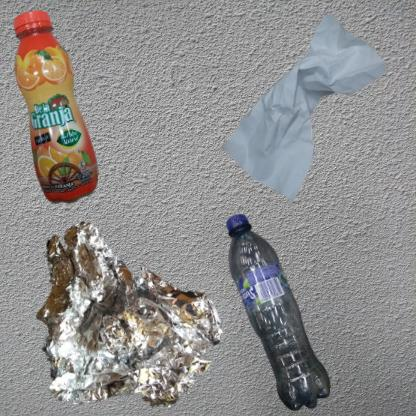aluminio: (10, 213, 249, 416)
botella: (213, 213, 345, 416), (10, 10, 102, 206)
papel: (213, 10, 395, 213)
